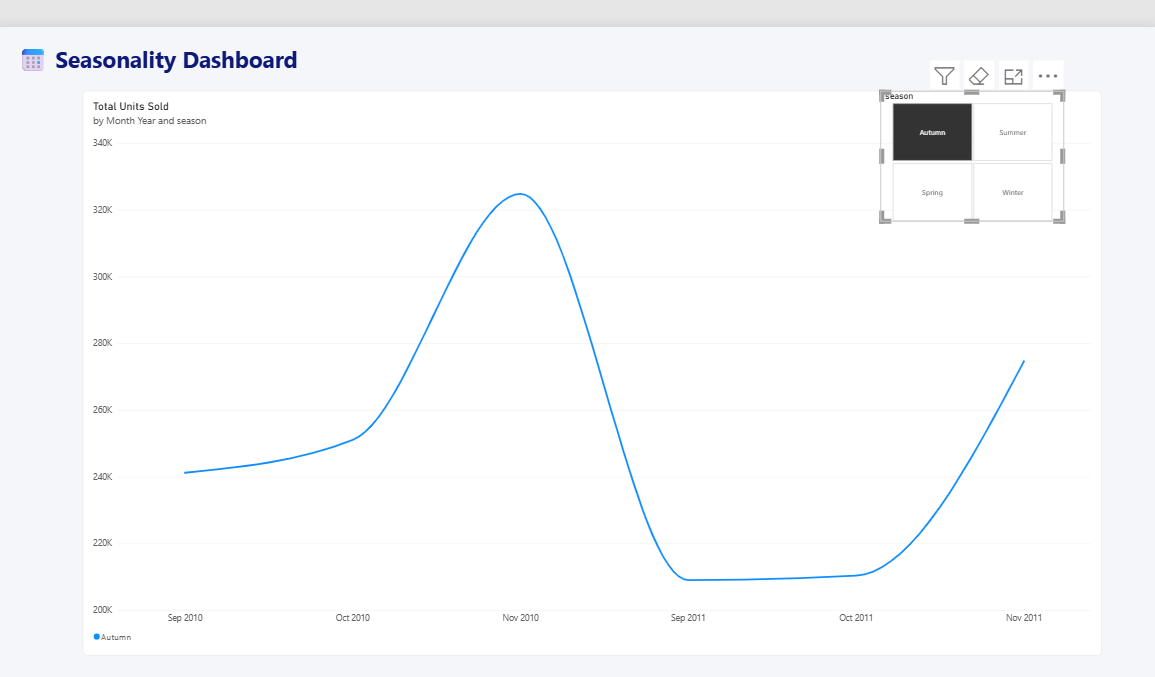

The dashboard page shown, as its layout file describes it:
{"tool":"powerbi","page":{"name":"Seasonality Dashboard","canvas":[1920,1080],"ordinal":8},"visuals":[{"type":"lineChart","fields":{"Y":["_Measures.Total Units Sold"],"Series":["calendar.season"],"Category":["calendar.Month Year"]},"box":[146.1,105,1677.5,930.4],"z":0},{"type":"slicer","fields":{"Values":["calendar.season"]},"box":[1459.4,105,302.6,216.1],"z":1000},{"type":"textbox","box":[39.1,26.8,531,78.2],"z":2000}]}

Visuals, with their boxes on the page's 1920x1080 design canvas (x1, y1, x2, y2). These are canvas units, not pixel positions in the 1155x677 screenshot, which may show the page scaled, cropped or inside an application window:
lineChart - _Measures.Total Units Sold x calendar.season: <region>146, 105, 1824, 1035</region>
slicer - calendar.season: <region>1459, 105, 1762, 321</region>
textbox: <region>39, 27, 570, 105</region>
